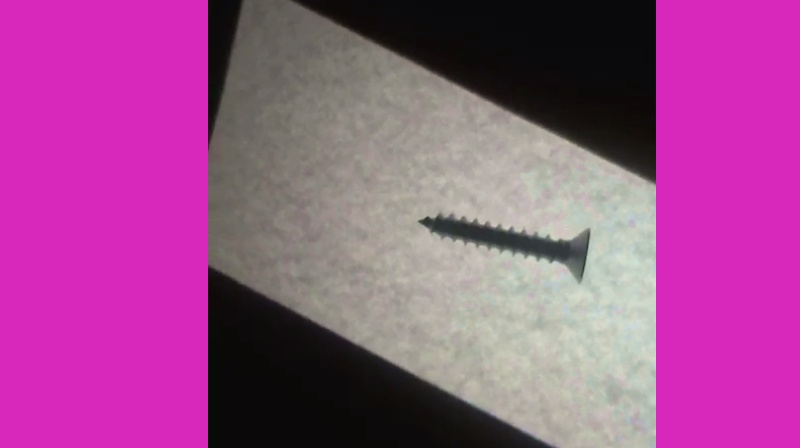S001: (414, 209, 596, 284)
